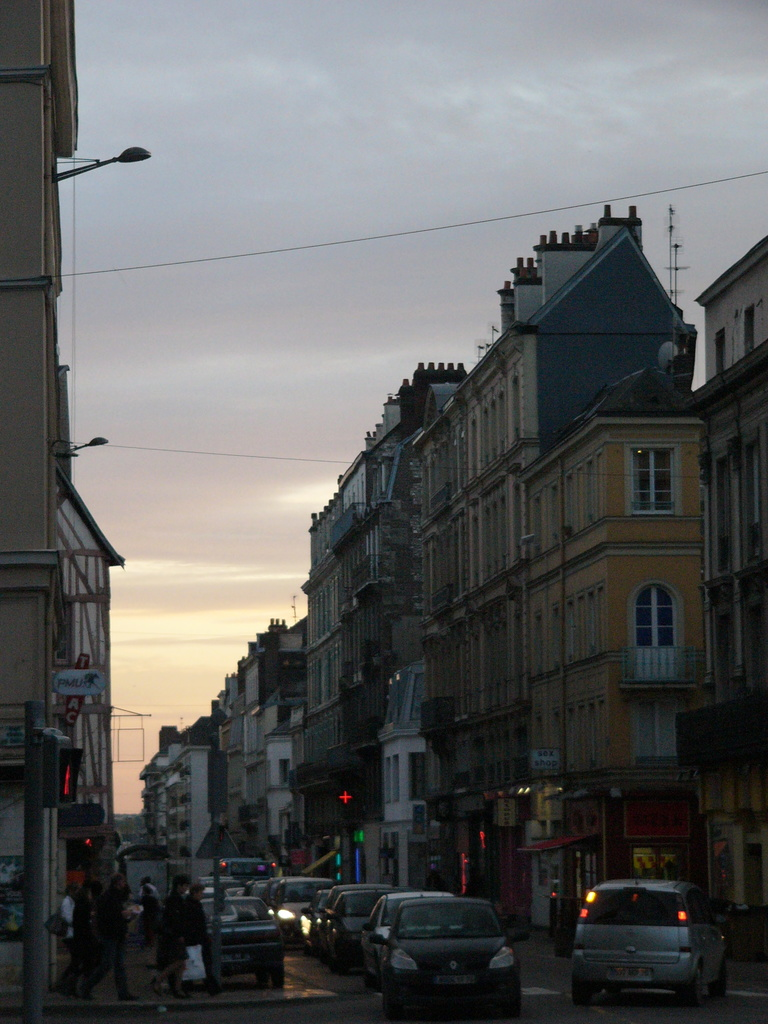cars: (202, 852, 522, 1012), (577, 869, 731, 1001)
